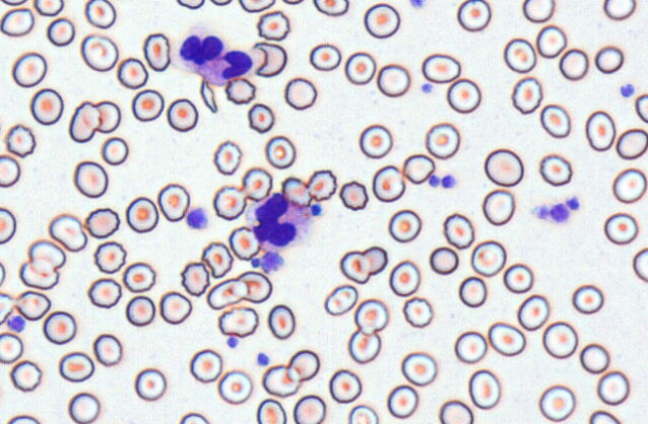GRAN: (173, 23, 254, 88), (249, 193, 311, 251)
PLT: (187, 208, 210, 230), (261, 253, 284, 275), (551, 202, 569, 222), (7, 315, 26, 333), (440, 174, 459, 190), (620, 81, 636, 97), (533, 205, 548, 219), (409, 0, 428, 11), (227, 336, 241, 350), (257, 352, 271, 366), (566, 197, 580, 210), (421, 81, 434, 95), (310, 204, 323, 217), (429, 173, 439, 187), (252, 254, 262, 267)
RBC: (48, 213, 87, 252), (484, 148, 523, 186), (80, 33, 118, 71), (538, 384, 575, 421), (487, 321, 526, 356), (542, 321, 578, 358), (470, 240, 506, 277), (363, 2, 400, 38), (73, 160, 108, 198), (468, 369, 501, 409), (217, 305, 258, 337), (11, 51, 47, 87), (400, 351, 437, 386), (425, 122, 460, 159), (29, 87, 63, 125), (371, 164, 405, 202), (261, 364, 300, 397), (157, 182, 190, 221), (206, 278, 247, 309), (585, 110, 616, 151), (612, 167, 647, 203), (125, 196, 159, 233), (212, 185, 247, 220), (217, 369, 252, 404), (358, 123, 393, 158), (446, 78, 481, 113), (354, 298, 388, 334), (482, 188, 515, 225), (27, 239, 66, 270), (347, 329, 381, 364), (328, 368, 362, 403), (596, 370, 630, 405), (236, 270, 272, 303), (517, 294, 550, 330), (503, 37, 536, 73), (388, 259, 420, 296), (442, 212, 474, 249), (511, 76, 542, 114), (421, 53, 460, 83), (42, 310, 76, 344), (376, 63, 410, 97), (189, 348, 222, 383), (603, 212, 638, 245), (286, 349, 320, 382), (159, 290, 192, 324), (228, 225, 260, 260), (58, 351, 94, 382), (84, 207, 120, 238), (9, 359, 42, 392), (93, 240, 126, 273), (454, 330, 487, 363), (284, 77, 317, 110), (131, 88, 164, 121), (539, 153, 572, 186), (388, 209, 421, 242), (386, 384, 418, 418), (4, 123, 36, 157), (134, 367, 166, 401), (264, 135, 296, 169), (166, 98, 198, 132), (87, 277, 122, 308), (539, 103, 570, 138), (67, 391, 100, 423), (344, 51, 376, 84), (241, 167, 272, 201), (324, 284, 358, 315), (256, 10, 290, 41), (122, 261, 156, 292), (536, 24, 567, 58), (457, 0, 491, 31), (143, 32, 170, 71), (180, 261, 210, 296), (212, 140, 242, 175), (616, 127, 648, 159), (339, 250, 370, 283), (402, 153, 435, 184), (571, 283, 604, 314), (0, 7, 34, 37), (306, 169, 337, 201), (117, 57, 148, 89), (402, 296, 433, 328), (579, 342, 610, 374), (558, 47, 588, 80), (267, 304, 295, 339), (503, 262, 534, 293), (293, 394, 326, 423), (93, 333, 122, 366), (125, 295, 155, 326), (281, 176, 311, 206), (458, 276, 487, 307), (84, 0, 116, 28), (309, 43, 341, 71), (339, 180, 368, 210), (429, 246, 458, 275), (46, 17, 75, 46), (438, 399, 473, 423), (594, 45, 624, 73), (224, 77, 255, 104), (247, 102, 274, 133), (100, 136, 128, 165), (362, 245, 388, 275), (256, 398, 286, 423), (0, 331, 23, 363), (522, 0, 555, 22), (0, 154, 20, 187), (603, 0, 636, 20), (0, 206, 16, 244), (347, 404, 378, 423), (313, 0, 349, 16), (632, 247, 648, 282), (33, 0, 64, 16), (588, 409, 621, 424), (238, 0, 275, 13), (0, 292, 14, 325), (634, 93, 648, 123), (179, 412, 209, 423), (6, 414, 40, 423), (176, 0, 204, 9), (0, 0, 28, 6), (0, 261, 6, 287), (209, 0, 232, 6), (281, 0, 304, 5)
Schistocyte: (254, 41, 289, 77), (200, 242, 234, 278), (19, 261, 59, 289), (15, 292, 51, 320), (95, 100, 123, 134), (70, 111, 96, 142), (200, 77, 219, 113)
